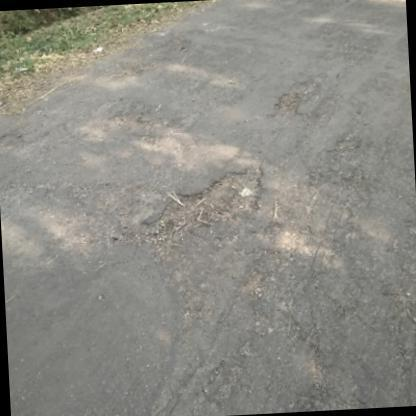pothole: (146, 164, 268, 249), (271, 80, 319, 122)
